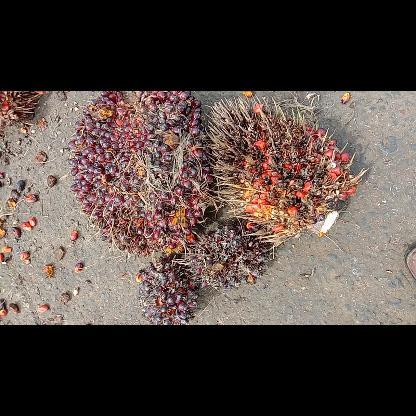TBS abnormal: (186, 216, 272, 290), (134, 256, 200, 324)
TBS masak: (68, 91, 214, 257)
Terlalu masak: (204, 94, 358, 248)
